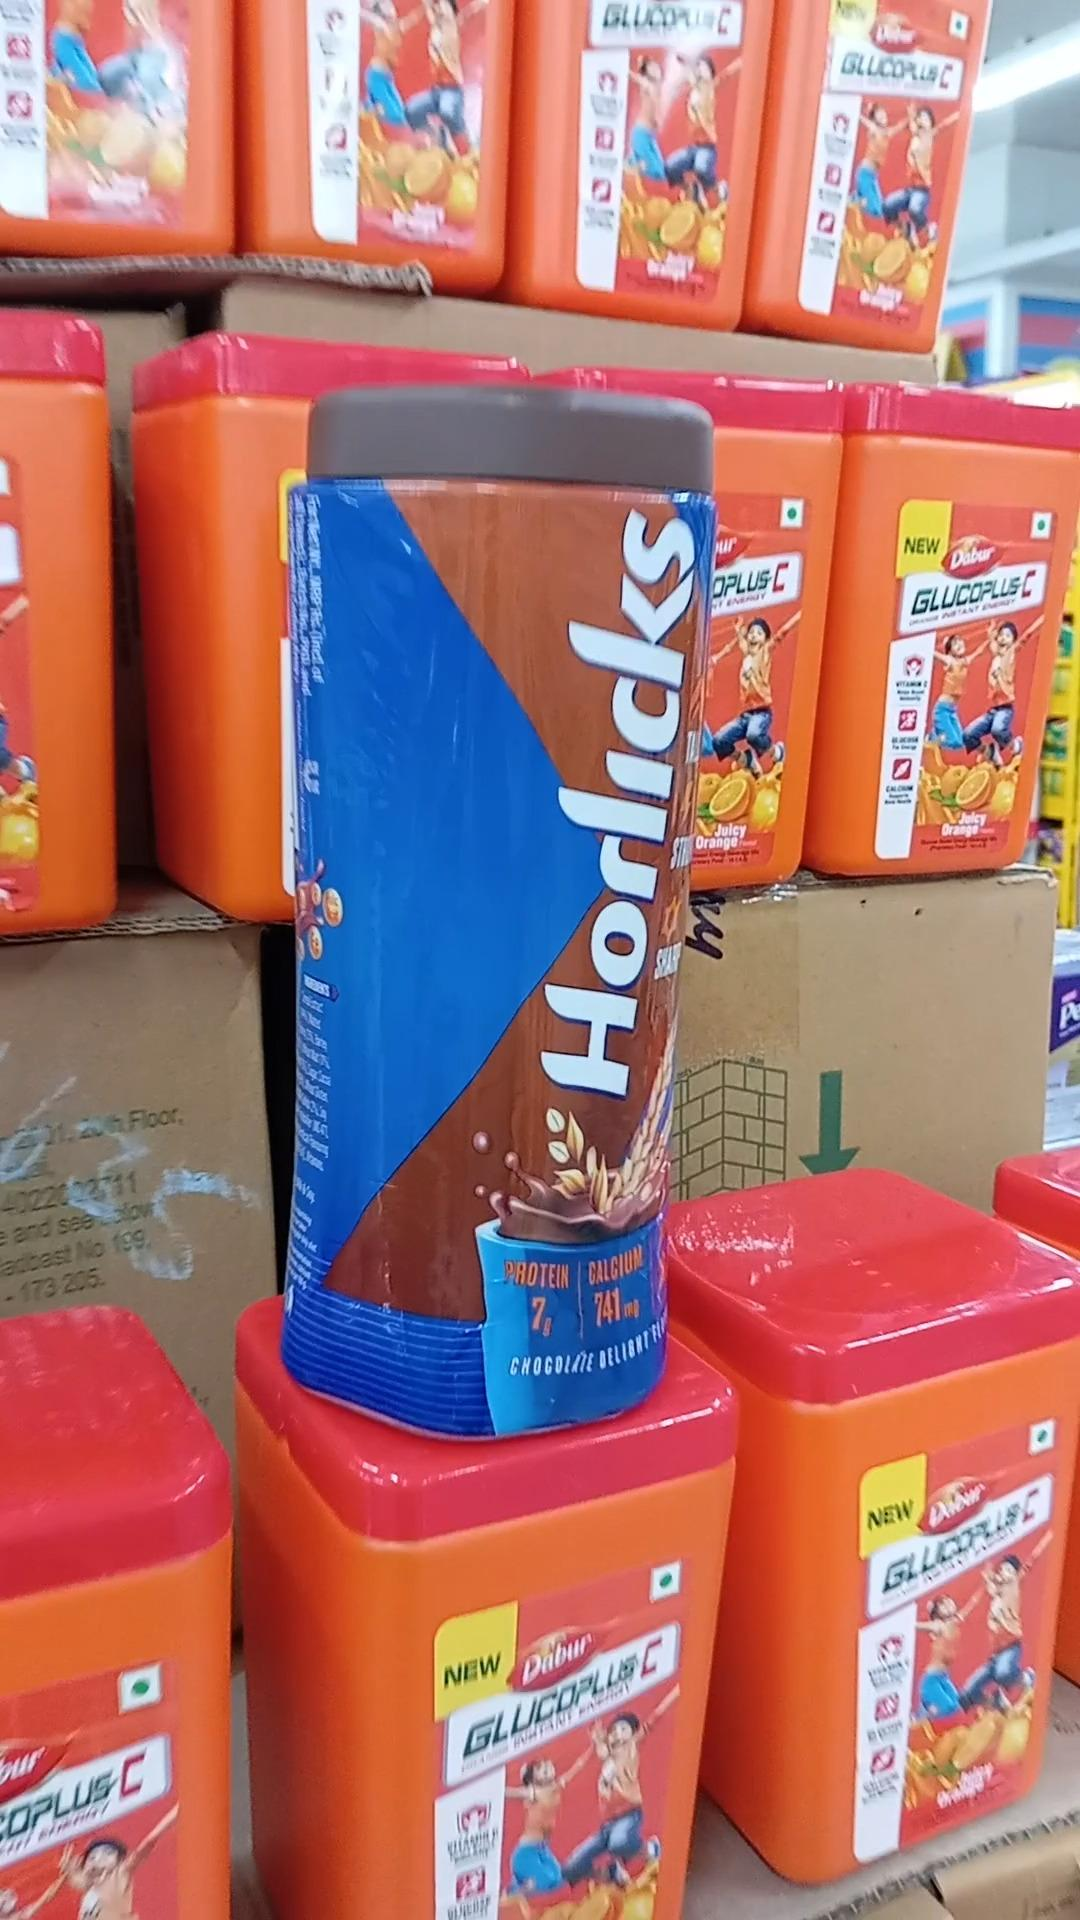HORLICK_CHOCOLATE_1_KG_JAR: (282, 380, 708, 1436)
